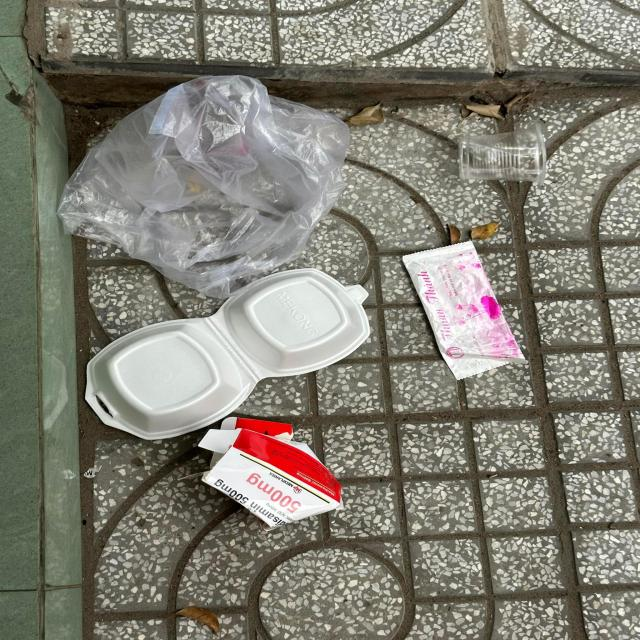bag: (57, 74, 348, 298)
cardboard box: (196, 416, 348, 532)
foam box: (85, 268, 369, 441)
packet: (402, 240, 528, 380)
plastic glass: (461, 124, 544, 184)
